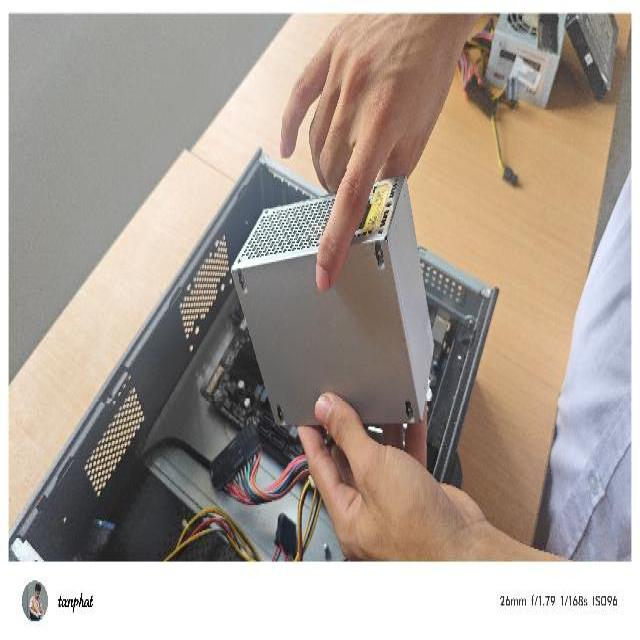PSU: (230, 168, 436, 439)
